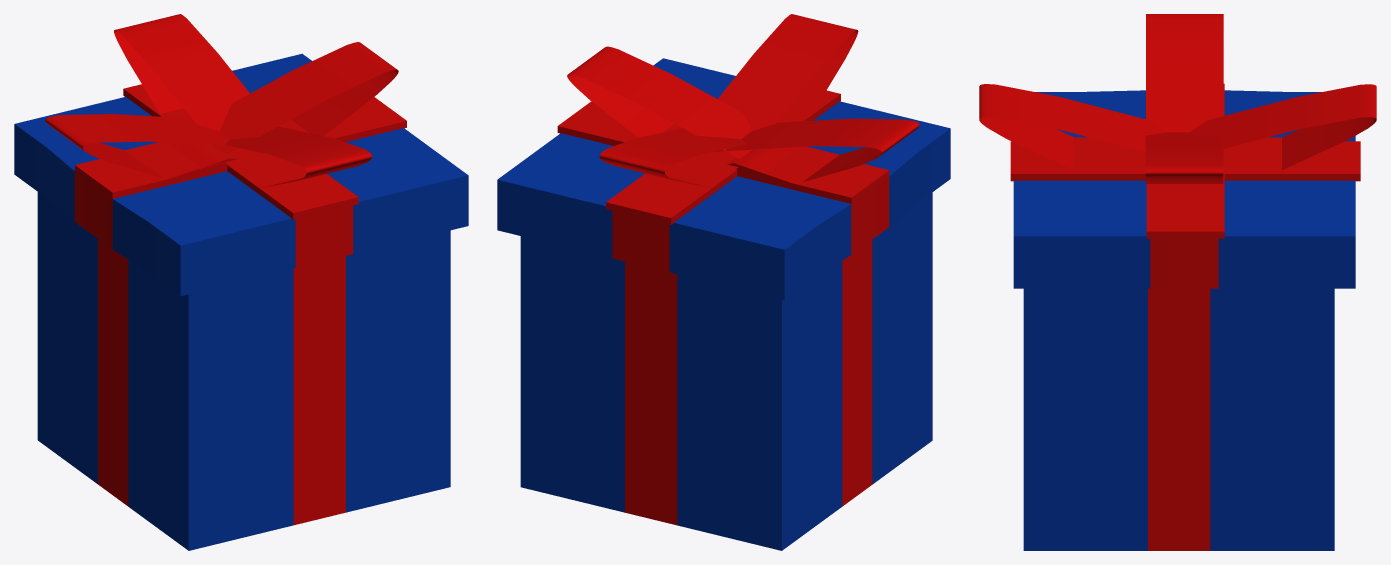
The picture shows the model from 3 angles, left to right: view 1: azimuth 30°, elevation 25°; view 2: azimuth 150°, elevation 25°; view 3: azimuth 270°, elevation 25°; orthographic projection. The views are drawn at different scales.
Parts seen in each view (by area): view 1: _______, krishka; view 2: _______, krishka; view 3: _______, krishka.
Part boxes in pixels (box(x1,y1,x2,y2)): _______: box(37, 192, 450, 550); krishka: box(14, 14, 468, 295); _______: box(520, 192, 932, 550); krishka: box(497, 14, 950, 300); _______: box(1023, 288, 1334, 550); krishka: box(979, 14, 1376, 288).
Bounding box in the file's own units: 248 × 273 × 256.
